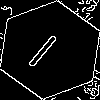I: (25, 25, 67, 70)
